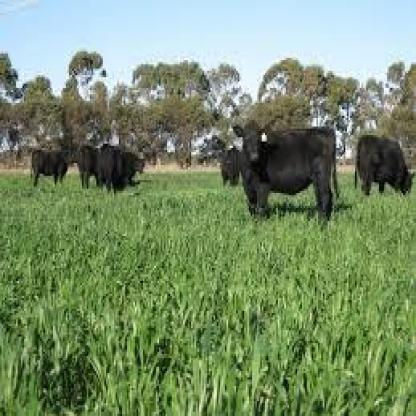cow: (230, 119, 342, 226), (352, 136, 416, 196), (30, 146, 78, 189), (98, 146, 122, 195), (79, 144, 96, 188), (222, 147, 239, 185)
